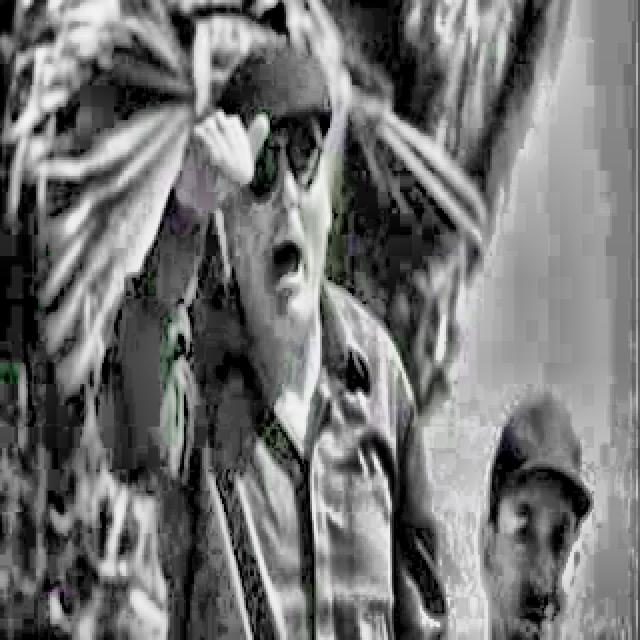T: (99, 38, 446, 639)
